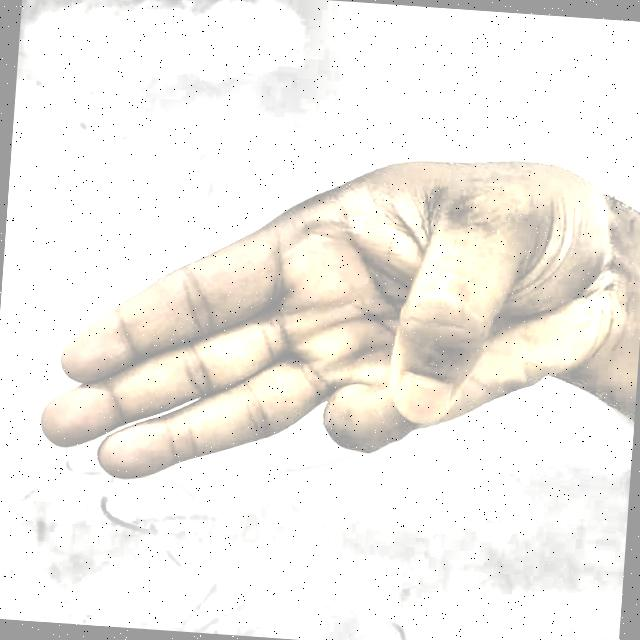Ma: (18, 100, 632, 554)
